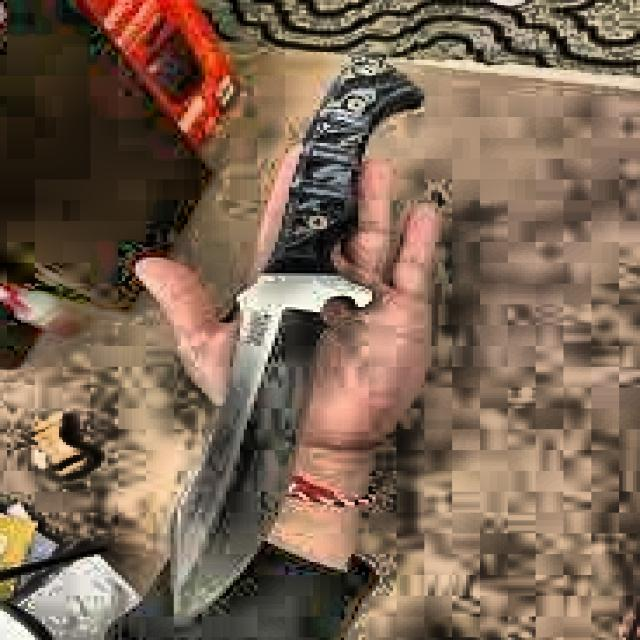knife: (175, 53, 430, 625)
